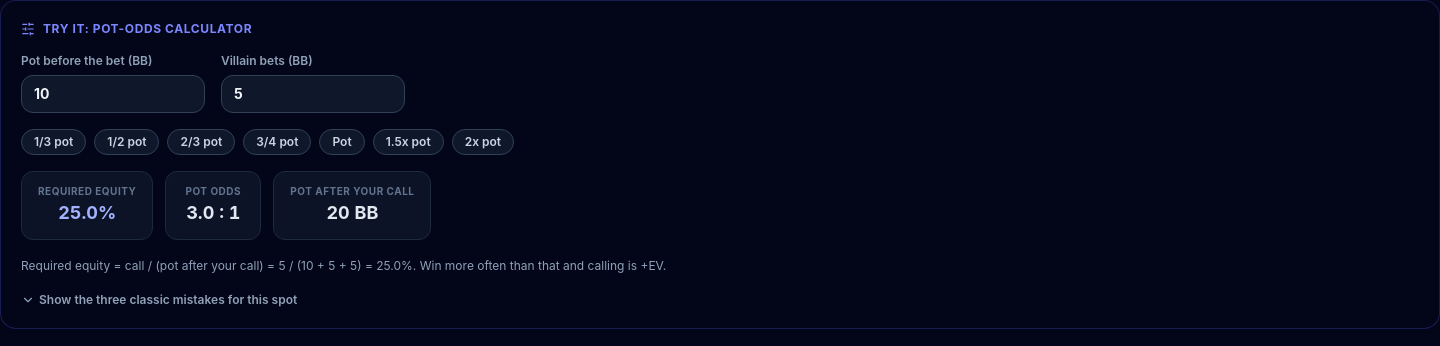
Scenario: PotOddsCalculator › recomputes when a preset bet size is clicked
Click the button "2x pot" at (483, 142), box [452,129,514,155]
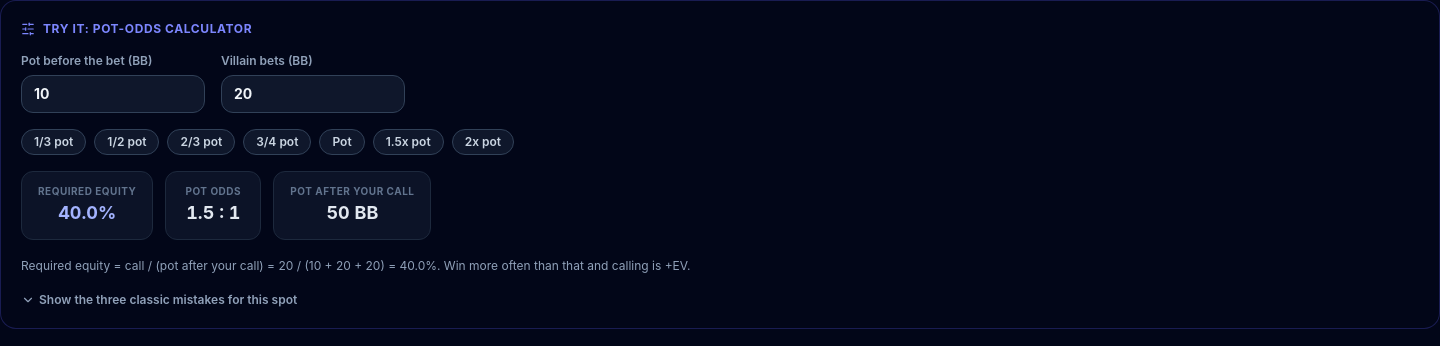
expect the text "40.0%" is shown: met, box [58,202,116,223]
